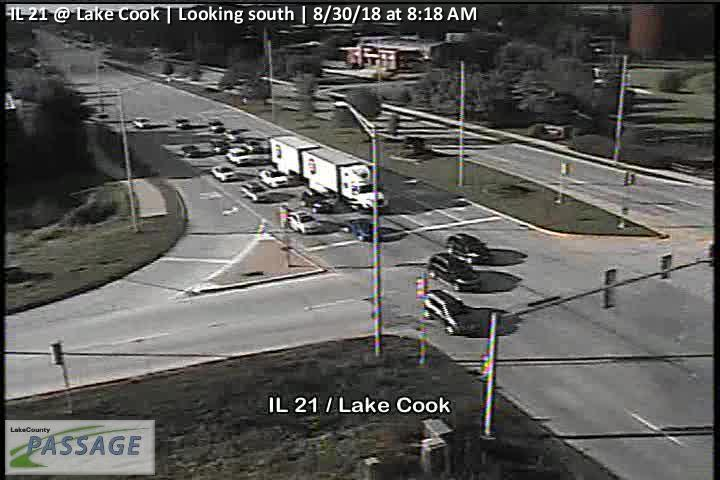SUV: (423, 289, 482, 336), (427, 252, 484, 292), (444, 233, 493, 264), (300, 188, 334, 213), (288, 210, 322, 234), (258, 168, 289, 188), (241, 181, 269, 203)
Sedan: (342, 217, 376, 241), (210, 165, 237, 183)
Truck: (269, 133, 389, 214)
